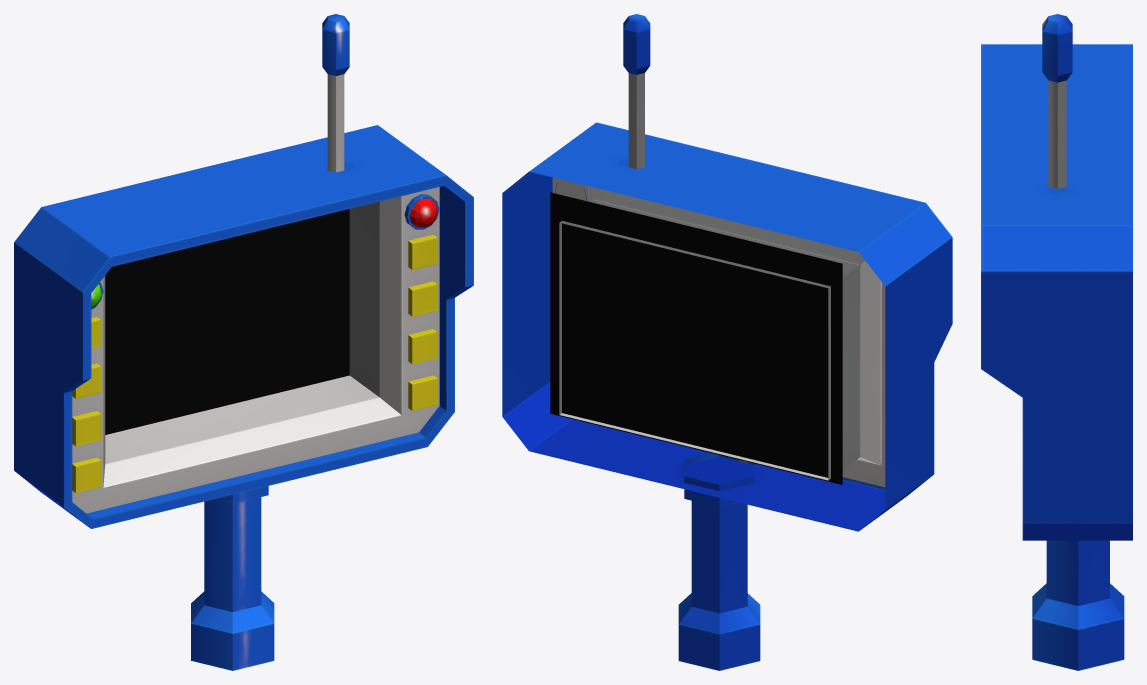
File: scanner_01.fbx
3 renders of one model, left to right at view 1: azimuth 30°, elevation 25°; view 2: azimuth 150°, elevation 25°; view 3: azimuth 270°, elevation 25°, orthographic. The views are drawn at different scales.
Parts seen in each view (by area): view 1: scanner_01, screen_01; view 2: scanner_01, screen_01; view 3: scanner_01.
Part boxes in pixels (<box>): scanner_01: <box>14,14,473,670</box>; screen_01: <box>105,209,349,434</box>; scanner_01: <box>502,14,952,670</box>; screen_01: <box>550,192,842,484</box>; scanner_01: <box>981,14,1132,670</box>.
Size of the model in its own units: 21.78 by 32.81 by 6.63.
